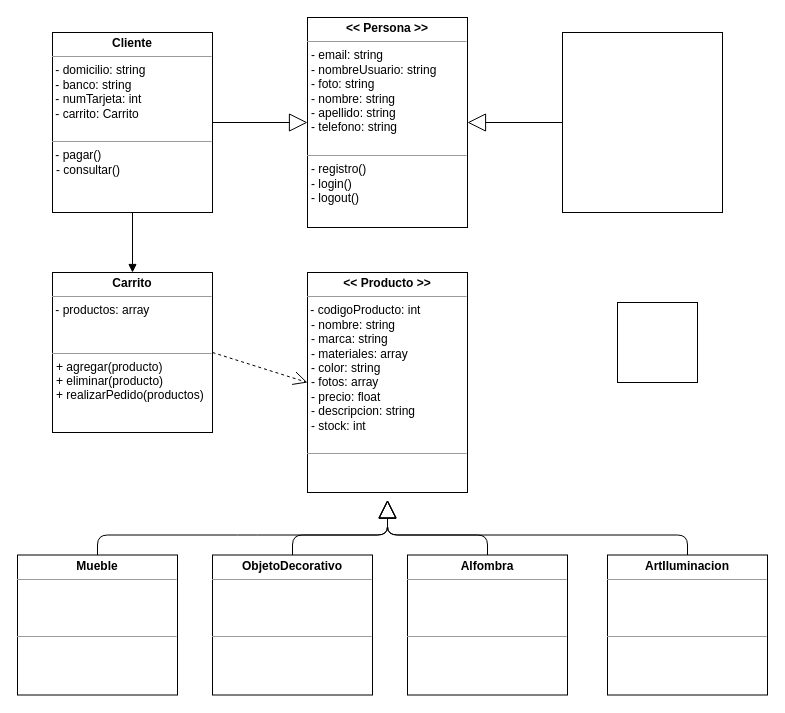
Some shapes in this 785 by 713 pixel diagram are drawn without their labels. Here are the shapes that lost their labels. From the top down, the centre of each, then its label:
the point at 642,122: Decorador - asesorar() - cobrarHonorarios()
the point at 657,342: Pedidos, entregas, administrador, buscador
